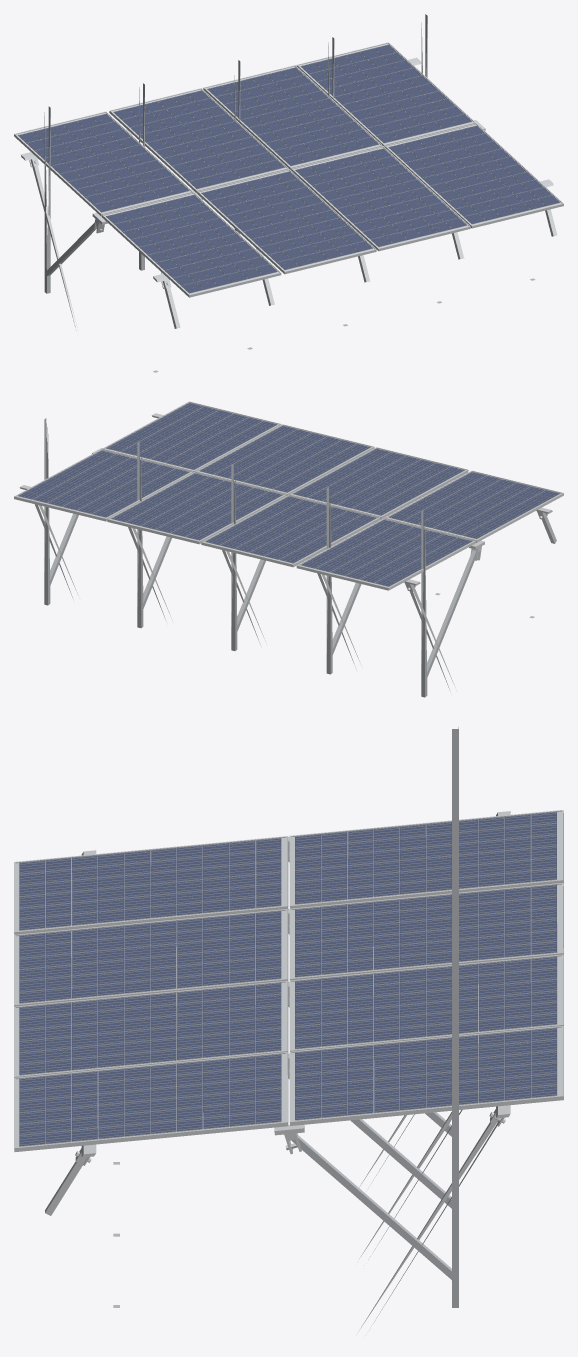
File: solar.glb
3 renders of one model, top to bottom at view 1: azimuth 30°, elevation 25°; view 2: azimuth 150°, elevation 25°; view 3: azimuth 270°, elevation 25°, orthographic. The views are drawn at different scales.
Parts seen in each view (by area): view 1: SolarPanelSurface, SolarPanelFrame, SolarPanelBase; view 2: SolarPanelSurface, SolarPanelFrame, SolarPanelBase; view 3: SolarPanelSurface, SolarPanelFrame, SolarPanelBase.
Part boxes in pixels (x1,y1,x2,y2): SolarPanelSurface: (18, 44, 559, 292); SolarPanelFrame: (14, 42, 563, 331); SolarPanelBase: (44, 14, 535, 372); SolarPanelSurface: (18, 402, 559, 586); SolarPanelFrame: (14, 401, 563, 689); SolarPanelBase: (44, 418, 534, 697); SolarPanelSurface: (19, 811, 556, 1146); SolarPanelFrame: (14, 810, 563, 1330); SolarPanelBase: (113, 727, 458, 1307).
Bounding box in the file's own units: 4.27 × 2.13 × 3.27.
